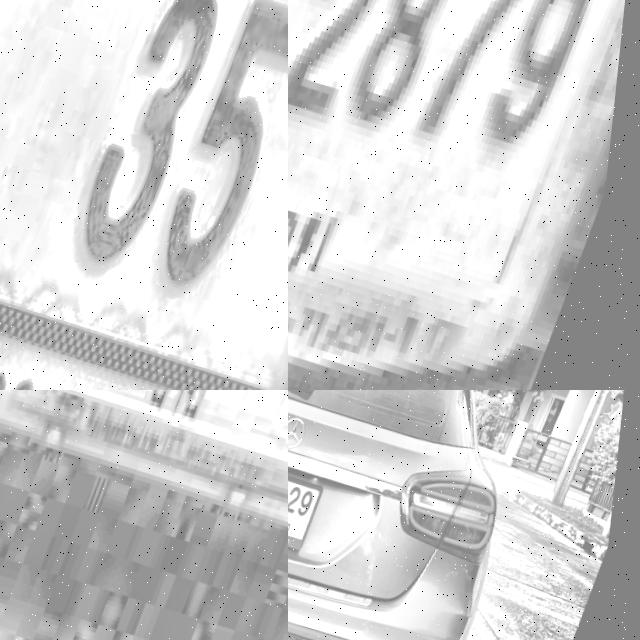license-plate: (288, 0, 640, 390), (0, 0, 288, 390), (0, 390, 288, 522), (288, 447, 335, 550)
